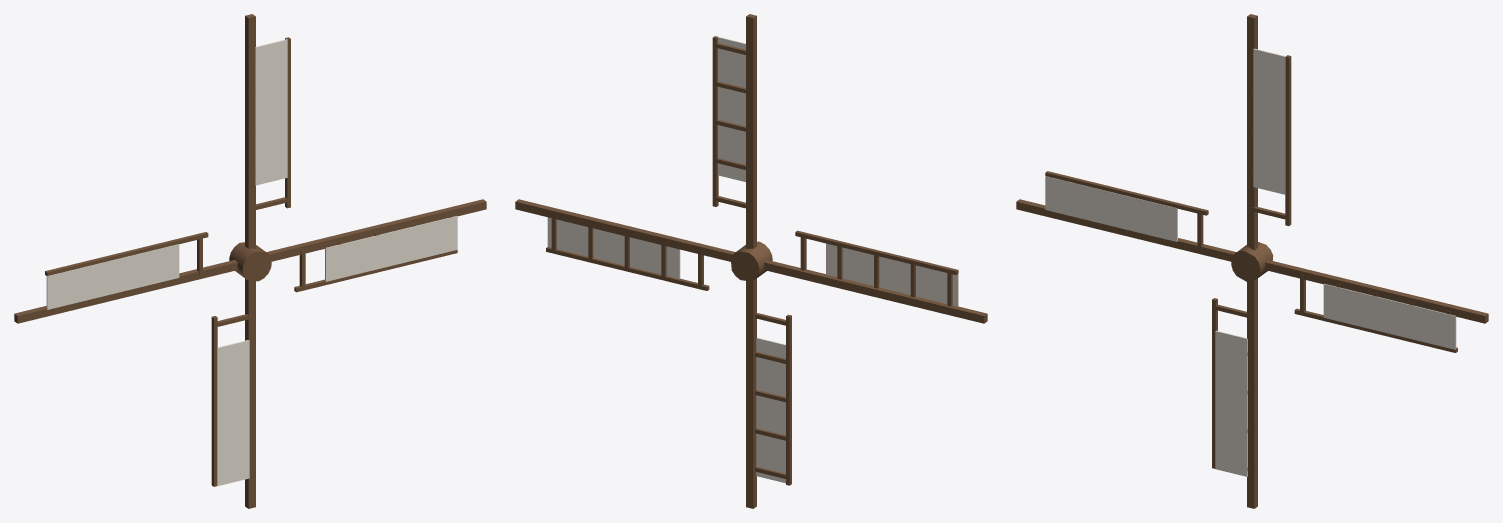
Rendered from sails.glb.
3 renders of one model, left to right at view 1: azimuth 30°, elevation 25°; view 2: azimuth 150°, elevation 25°; view 3: azimuth 330°, elevation 25°, orthographic.
Parts seen in each view (by area): view 1: cloth.001, cloth.003, cloth, cloth.002, stock, stock.003, stock.001, stock.002, bar.017, hub, bar.011, bar.005 (+1 smaller); view 2: cloth.001, cloth.002, cloth.003, cloth, stock, stock.003, stock.001, stock.002, hub, bar.011, bar.017, bar.005 (+1 smaller); view 3: cloth.003, cloth.002, cloth.001, cloth, stock.003, stock.002, stock, stock.001, bar.005, hub, bar.011, bar.017 (+1 smaller).
Part boxes in pixels (left/top/right/bottom): cloth.001: left=46, top=244, right=179, bottom=309; cloth.003: left=325, top=216, right=457, bottom=281; cloth: left=255, top=39, right=287, bottom=185; cloth.002: left=217, top=340, right=249, bottom=486; stock: left=245, top=14, right=255, bottom=248; stock.003: left=266, top=199, right=486, bottom=261; stock.001: left=14, top=260, right=237, bottom=323; stock.002: left=245, top=278, right=255, bottom=508; bar.017: left=211, top=316, right=217, bottom=486; hub: left=229, top=242, right=271, bottom=281; bar.011: left=45, top=232, right=208, bottom=275; bar.005: left=285, top=37, right=290, bottom=208; cloth.001: left=826, top=243, right=958, bottom=306; cloth.002: left=756, top=337, right=785, bottom=483; cloth.003: left=547, top=217, right=680, bottom=278; cloth: left=718, top=36, right=745, bottom=181; stock: left=746, top=14, right=756, bottom=248; stock.003: left=515, top=199, right=735, bottom=261; stock.001: left=764, top=260, right=987, bottom=323; stock.002: left=746, top=278, right=756, bottom=508; hub: left=730, top=241, right=772, bottom=281; bar.011: left=795, top=230, right=958, bottom=275; bar.017: left=786, top=314, right=791, bottom=485; bar.005: left=712, top=36, right=718, bottom=206; cloth.003: left=1323, top=283, right=1456, bottom=349; cloth.002: left=1215, top=330, right=1247, bottom=476; cloth.001: left=1045, top=176, right=1177, bottom=241; cloth: left=1253, top=48, right=1285, bottom=194; stock.003: left=1264, top=260, right=1488, bottom=323; stock.002: left=1247, top=278, right=1257, bottom=508; stock: left=1247, top=14, right=1257, bottom=250; stock.001: left=1016, top=199, right=1236, bottom=261; bar.005: left=1285, top=55, right=1291, bottom=225; hub: left=1231, top=242, right=1273, bottom=281; bar.011: left=1045, top=171, right=1208, bottom=215; bar.017: left=1212, top=298, right=1217, bottom=468.
Size of the model in its own units: 3.2 by 3.2 by 0.16.
